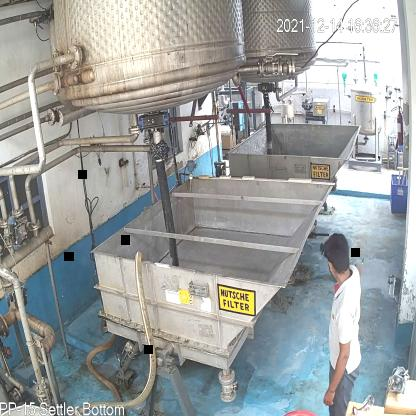no_glove: (321, 348, 348, 410)
